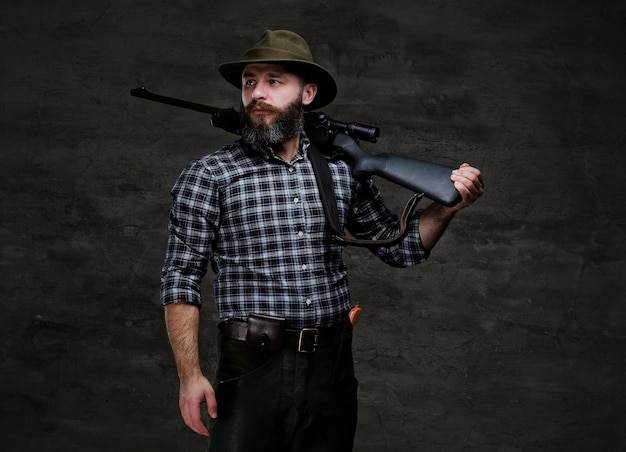gun: (130, 86, 469, 210)
